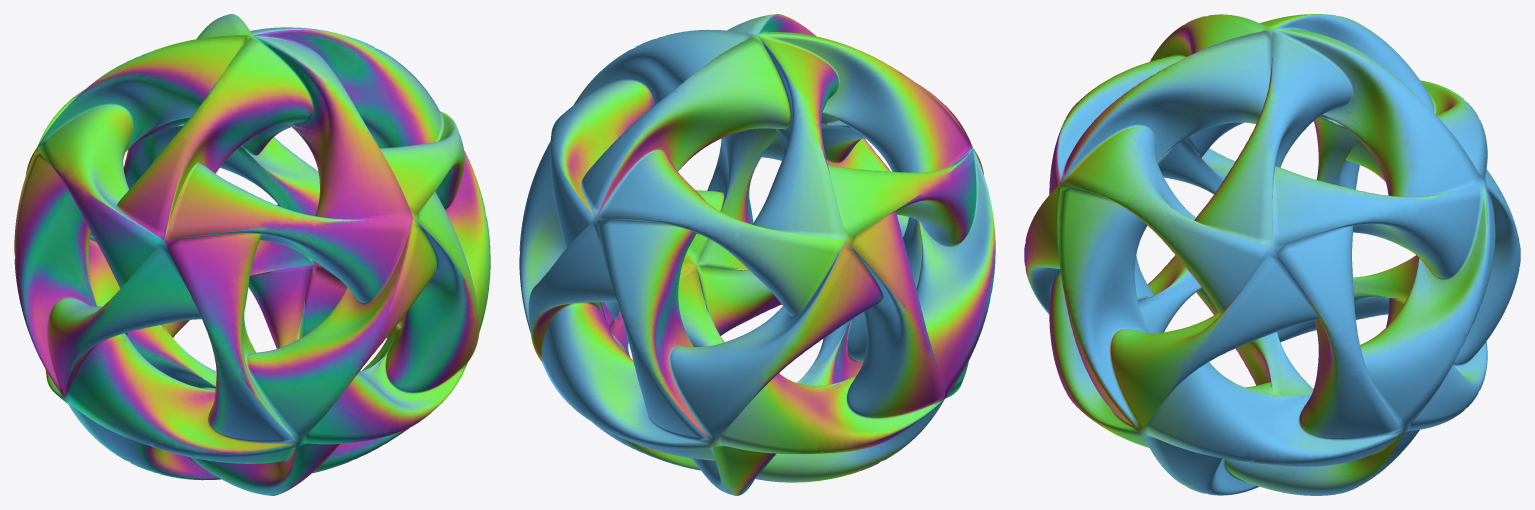
3 views of the same model, side by side, from view 1: azimuth 30°, elevation 25°; view 2: azimuth 150°, elevation 25°; view 3: azimuth 270°, elevation 25° (orthographic). The views are drawn at different scales.
Parts seen in each view (by area): view 1: Object_4; view 2: Object_4; view 3: Object_4.
Part boxes in pixels (x1,y1,x2,y2): Object_4: (14,14,490,495); Object_4: (519,14,995,495); Object_4: (1024,14,1520,495).
Size of the model in its own units: 1.92 by 1.99 by 1.99.
Materials: 1 (1 with a texture image).
